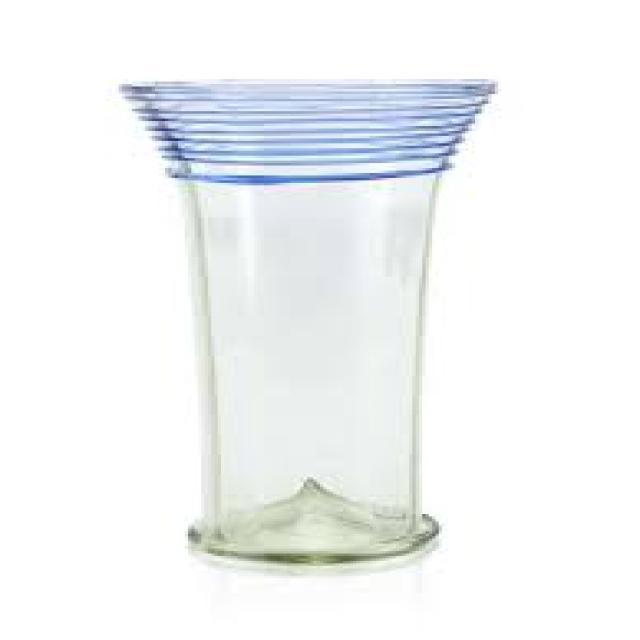Glass: (111, 81, 502, 565)
